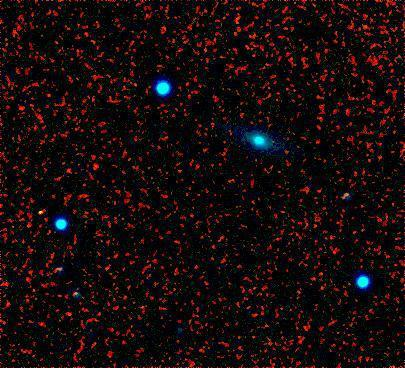star: (30, 196, 60, 226)
